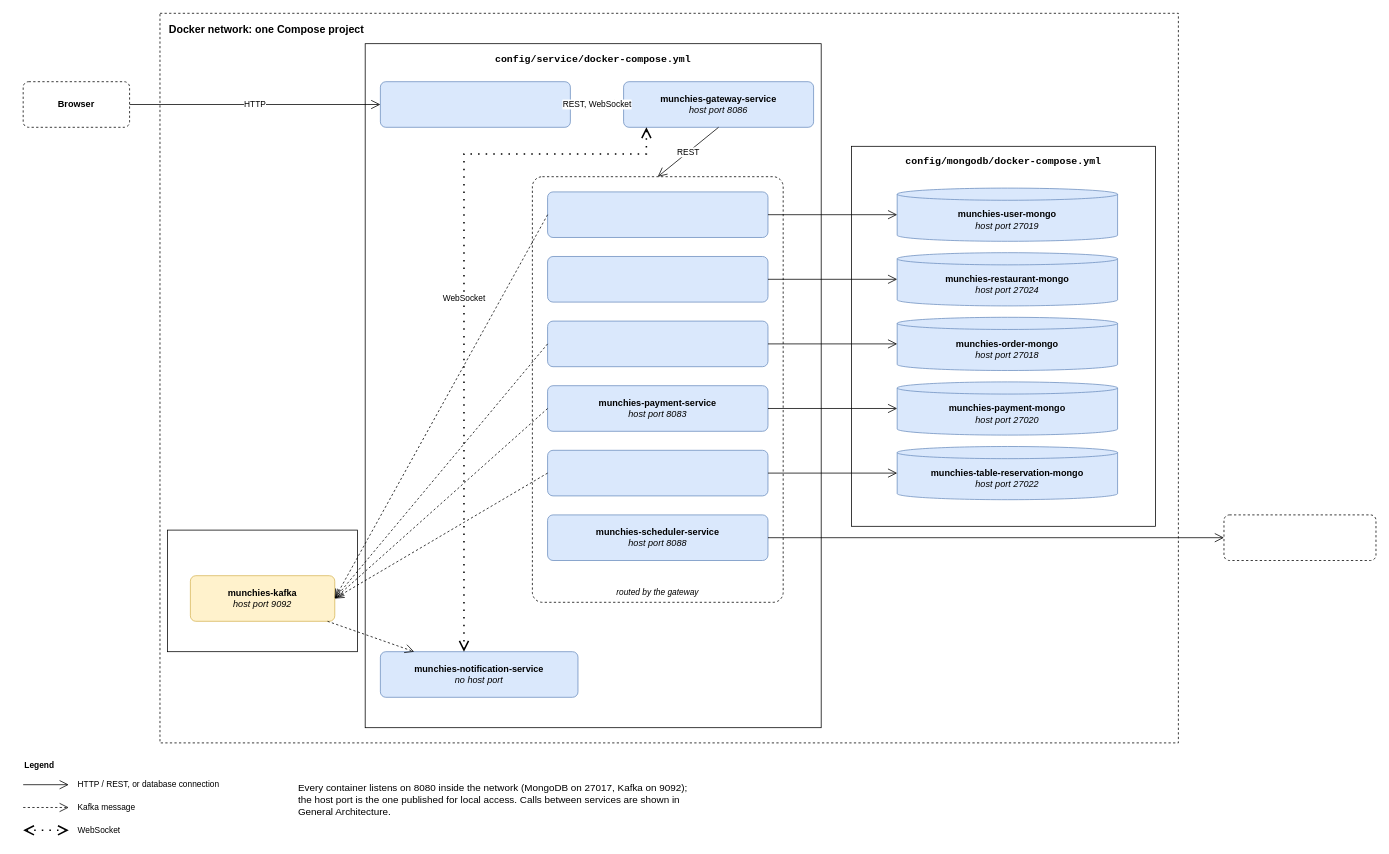
The diagram is 1389 pixels wide and 854 high, and some of its shapes have lost their labels. Each missing label, with the box of its shape:
config/kafka/docker-compose.yml: (167, 529, 358, 652)
munchies-frontend-service host port 5173: (380, 81, 570, 127)
munchies-order-service host port 8081: (547, 320, 768, 367)
munchies-restaurant-service host port 8087: (547, 256, 768, 302)
munchies-table-reservation-service host port 8085: (547, 450, 768, 496)
munchies-user-service host port 8082: (547, 191, 768, 238)
Routing service OSRM, on the internet: (1223, 514, 1376, 560)
